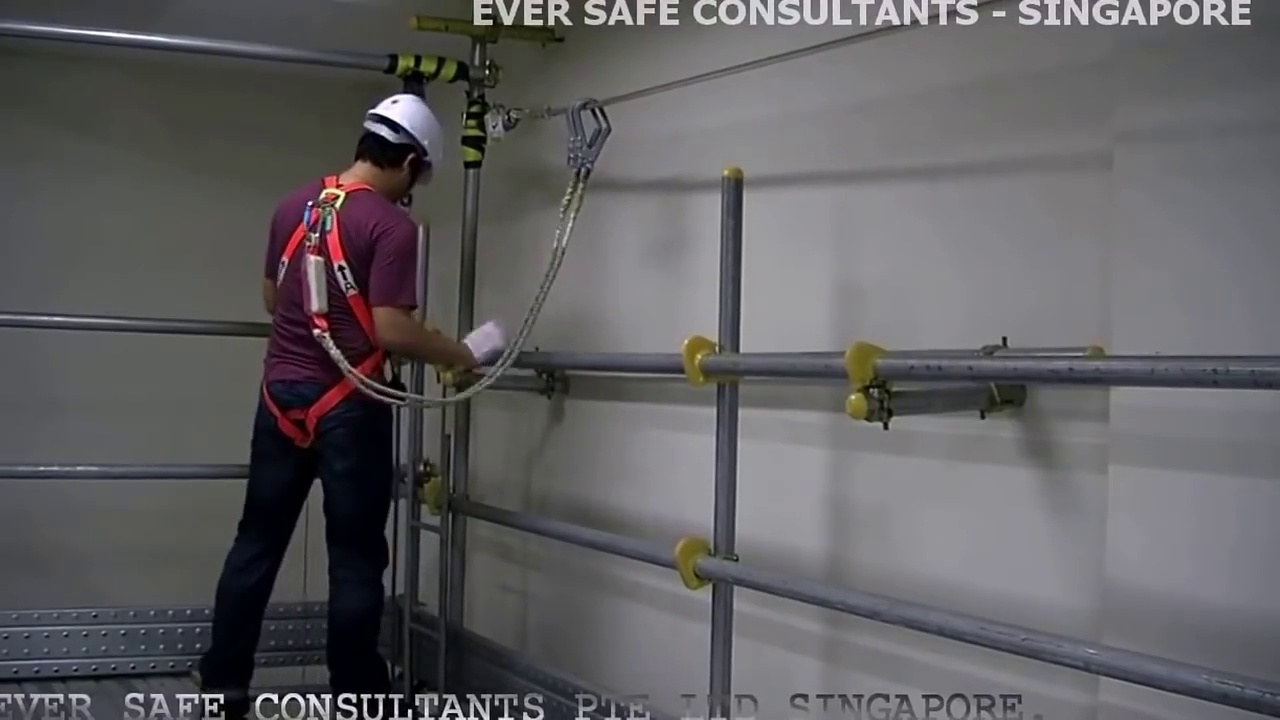harness: (279, 187, 377, 436)
helmet: (362, 91, 444, 161)
hook: (560, 94, 613, 176)
leash: (492, 206, 581, 389)
